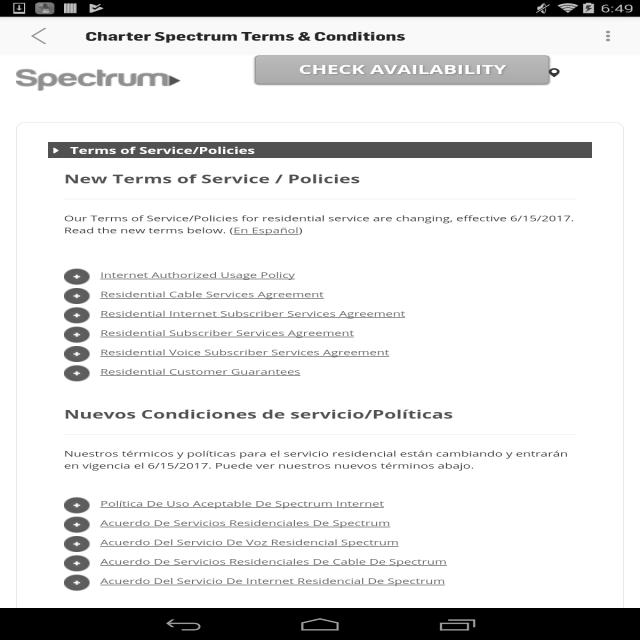Button: (577, 62, 624, 85)
ImageButton: (9, 17, 68, 55)
ImageView: (589, 20, 631, 52)
TextView: (86, 28, 536, 44)
